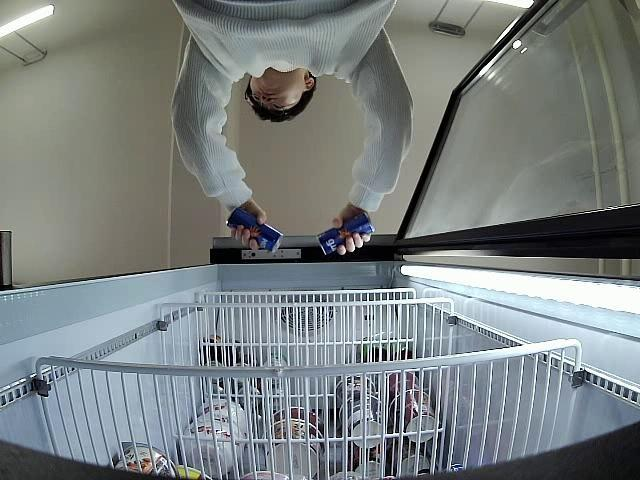16_hot6: (224, 208, 284, 254), (318, 212, 374, 257)
